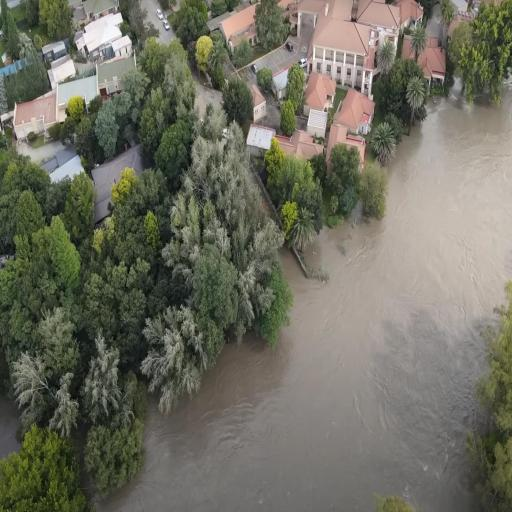flood: (95, 80, 512, 511), (0, 398, 19, 458)
house: (309, 13, 381, 102), (93, 146, 139, 232), (355, 0, 403, 77), (76, 11, 134, 66), (400, 34, 446, 100), (326, 120, 368, 184), (9, 92, 58, 144), (328, 84, 376, 136), (272, 123, 325, 169), (57, 72, 101, 121), (40, 147, 86, 188), (302, 72, 336, 120), (218, 3, 256, 45), (245, 123, 276, 156), (248, 83, 268, 125)
